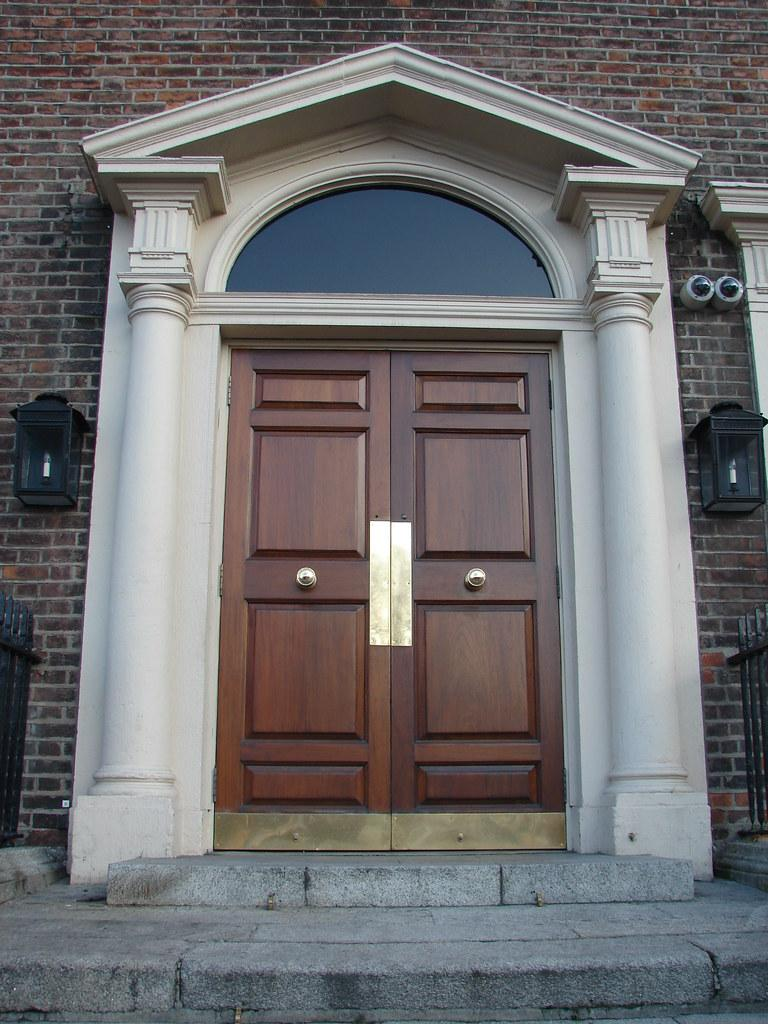door: (215, 342, 567, 850)
